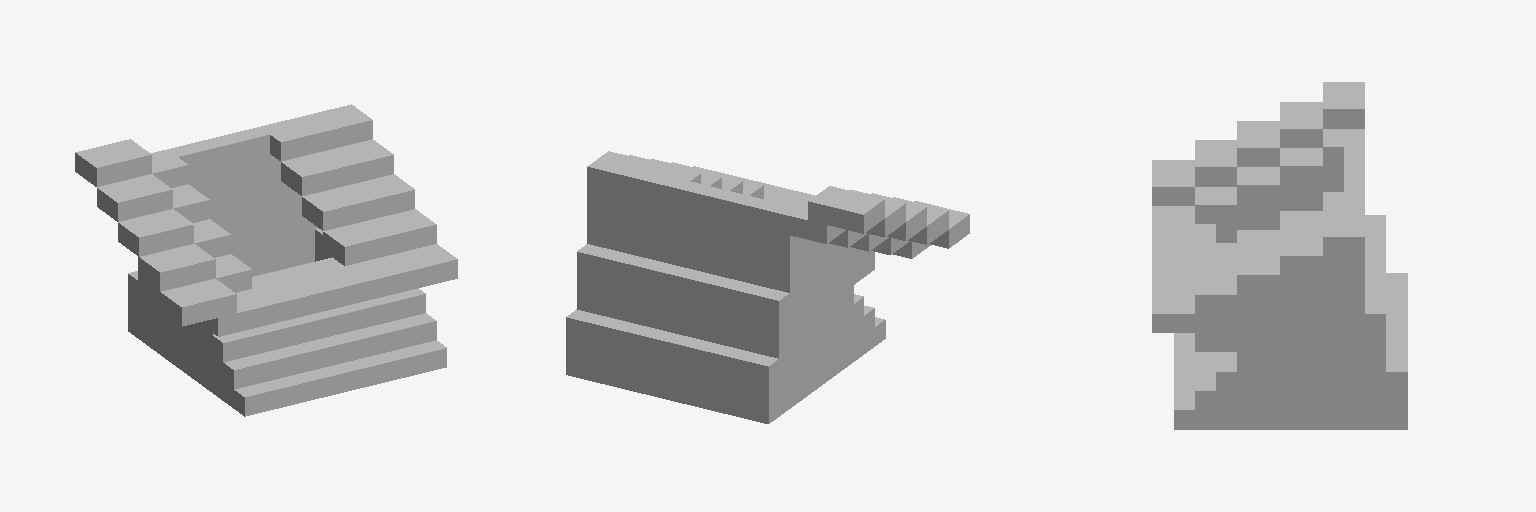
Rendered from big soggy boi.obj.
3 views of the same model, side by side, from view 1: azimuth 30°, elevation 25°; view 2: azimuth 150°, elevation 25°; view 3: azimuth 270°, elevation 25° (orthographic).
Parts seen in each view (by area): view 1: object 1; view 2: object 1; view 3: object 1.
Boxes of the visible parts, box(x1,y1,x2,y2) form: object 1: box(75, 104, 457, 416); object 1: box(566, 151, 969, 423); object 1: box(1152, 82, 1407, 429).
Size of the model in its own units: 1.5 by 1.1 by 1.2.